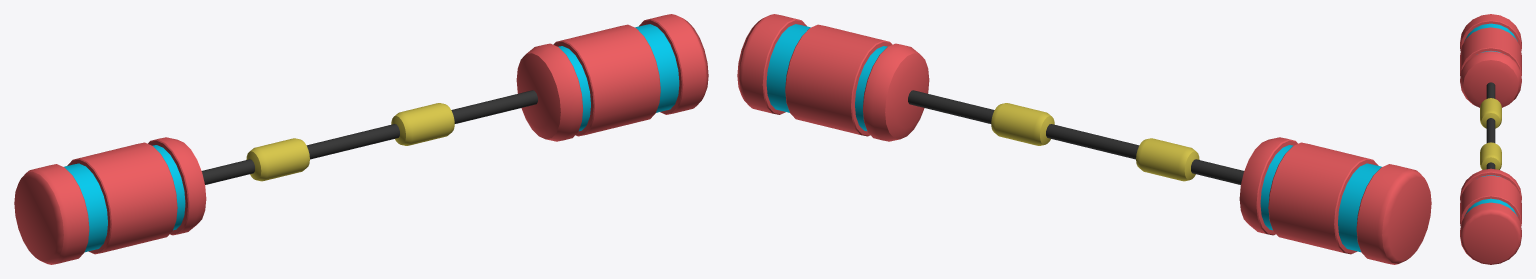
Rendered from Churrazo_ROJO.fbx.
The picture shows the model from 3 angles, left to right: view 1: azimuth 30°, elevation 25°; view 2: azimuth 150°, elevation 25°; view 3: azimuth 270°, elevation 25°; orthographic projection. The views are drawn at different scales.
Visible parts, largest first — view 1: polySurface5; view 2: polySurface5; view 3: polySurface5.
Boxes of the visible parts, x1,y1,x2,y2 form: polySurface5: [14, 14, 708, 264]; polySurface5: [737, 14, 1431, 264]; polySurface5: [1460, 14, 1521, 264].
Bounding box in the file's own units: 11.3 × 1.48 × 1.48.
